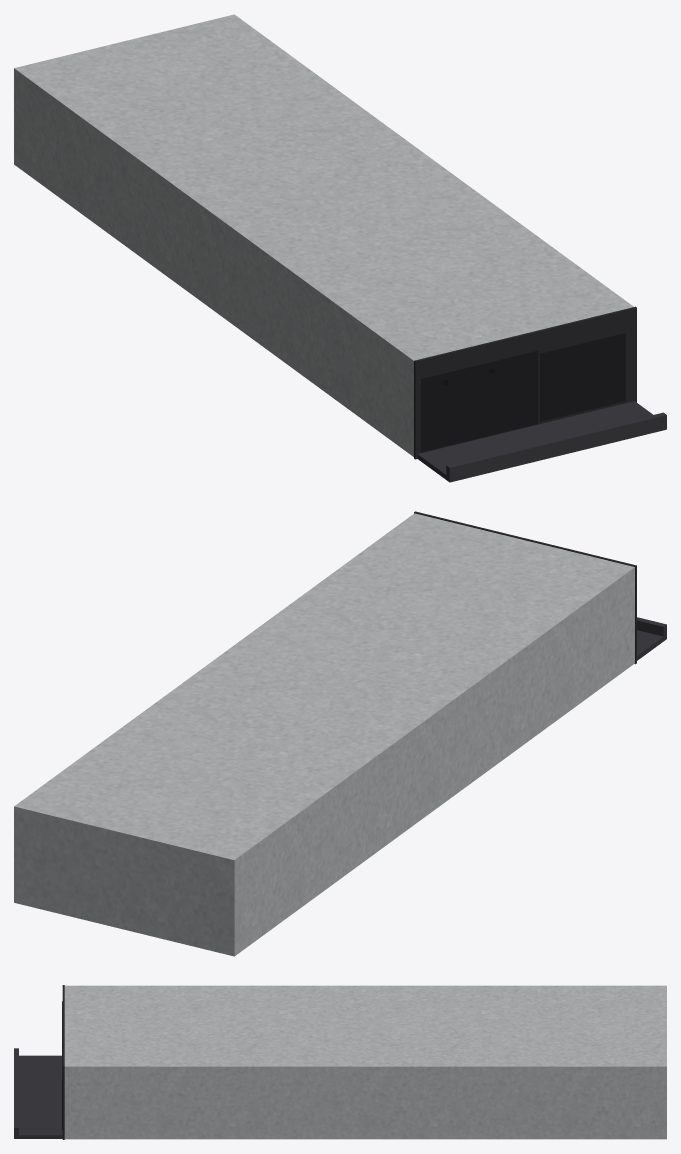
The model's file is PWR-C2-250WAC.far.glb.
3 renders of one model, top to bottom at view 1: azimuth 30°, elevation 25°; view 2: azimuth 150°, elevation 25°; view 3: azimuth 270°, elevation 25°, orthographic. The views are drawn at different scales.
Visible parts, largest first — view 1: PSU_far; view 2: PSU_far; view 3: PSU_far.
Part boxes in pixels (<box>): PSU_far: <box>14,14,666,482</box>; PSU_far: <box>14,511,666,956</box>; PSU_far: <box>14,985,666,1139</box>.
Size of the model in its own units: 0.0952 by 0.0401 by 0.3228.
3 materials, 2 textured.
